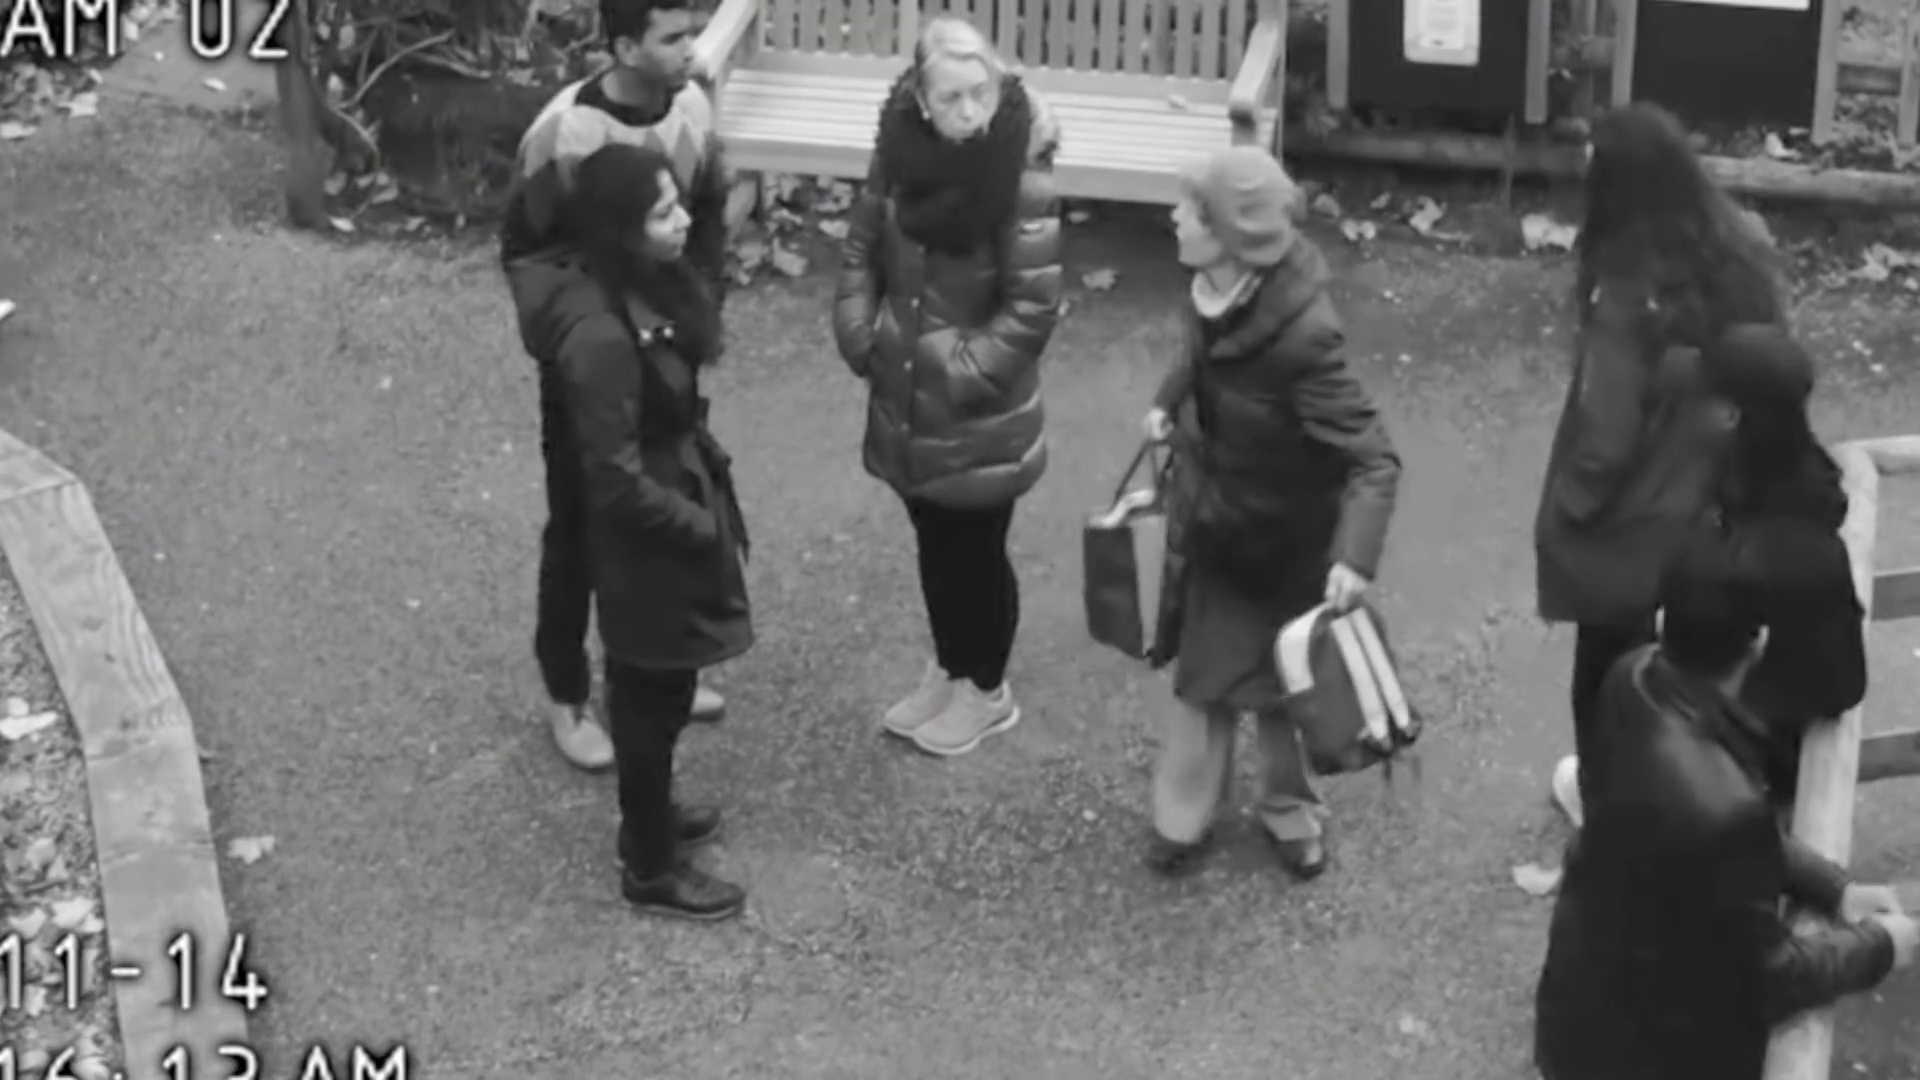face: (1163, 172, 1273, 276), (918, 56, 1009, 141), (641, 179, 704, 267), (638, 9, 701, 94)
